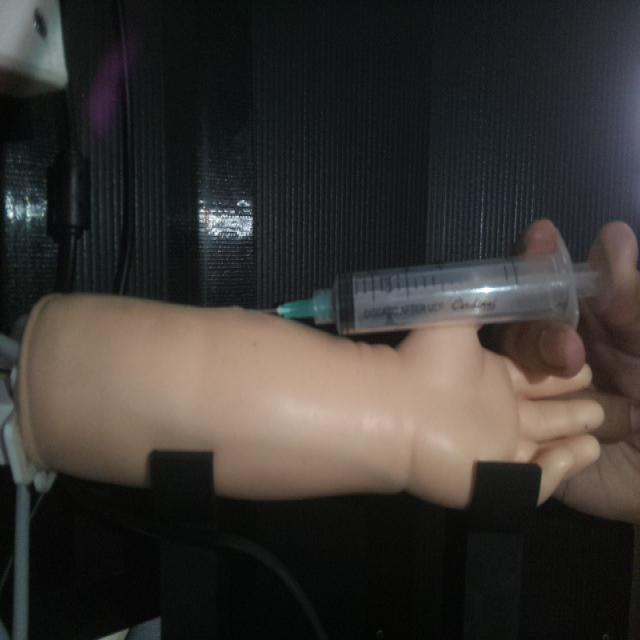Outside: (240, 230, 610, 339)
